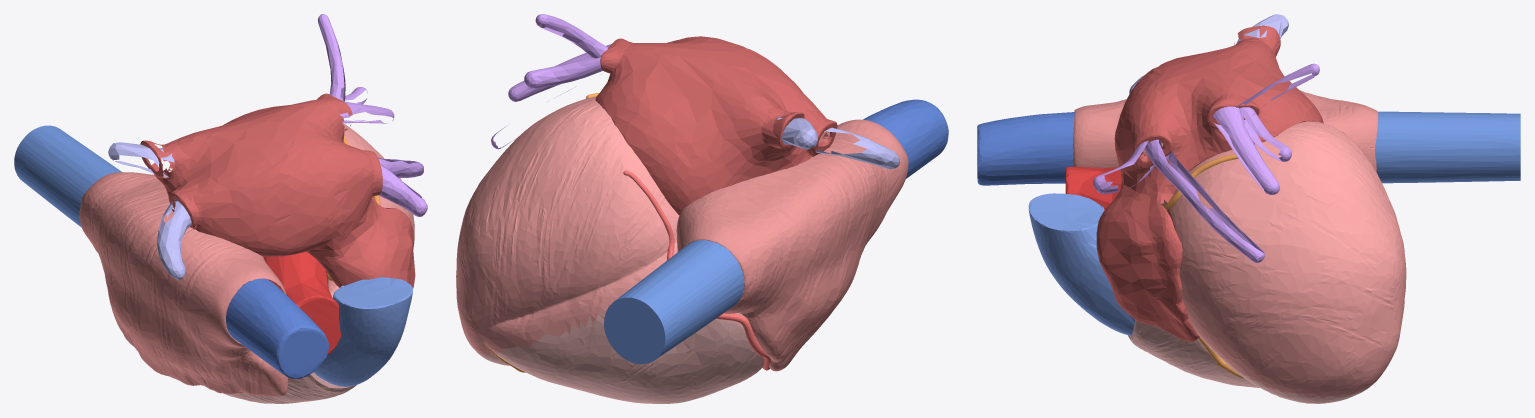
Rendered from heart.glb.
3 views of the same model, side by side, from view 1: azimuth 30°, elevation 25°; view 2: azimuth 150°, elevation 25°; view 3: azimuth 270°, elevation 25° (orthographic). The views are drawn at different scales.
Parts seen in each view (by area): view 1: Left_Atrium, Right_Atrium, Pulmonary_Trunk, Superior_Vena_Cava, Inferior_Vena_Cava, Left_Pulmonary_Veins, Ascending_Aorta, Right_Pulmonary_Veins, Right_Ventricle, Left_Ventricle; view 2: Left_Ventricle, Right_Atrium, Left_Atrium, Right_Ventricle, Inferior_Vena_Cava, Superior_Vena_Cava, Left_Pulmonary_Veins, Right_Pulmonary_Veins, Right_Coronary_Artery; view 3: Left_Ventricle, Left_Atrium, Inferior_Vena_Cava, Left_Pulmonary_Veins, Pulmonary_Trunk, Superior_Vena_Cava, Right_Atrium, Right_Ventricle, Ascending_Aorta, Left_Coronary_System, Right_Pulmonary_Veins.
Boxes of the visible parts, x1,y1,x2,y2 form: Left_Atrium: (140, 93, 415, 288); Right_Atrium: (79, 172, 288, 396); Pulmonary_Trunk: (313, 277, 412, 386); Superior_Vena_Cava: (226, 278, 328, 379); Inferior_Vena_Cava: (14, 125, 122, 227); Left_Pulmonary_Veins: (318, 14, 427, 216); Ascending_Aorta: (263, 251, 341, 354); Right_Pulmonary_Veins: (108, 142, 191, 279); Right_Ventricle: (222, 290, 356, 403); Left_Ventricle: (328, 123, 414, 293); Left_Ventricle: (456, 96, 679, 355); Right_Atrium: (676, 119, 908, 371); Left_Atrium: (595, 36, 837, 215); Right_Ventricle: (478, 313, 764, 403); Inferior_Vena_Cava: (604, 239, 744, 364); Superior_Vena_Cava: (863, 99, 948, 178); Left_Pulmonary_Veins: (491, 14, 611, 149); Right_Pulmonary_Veins: (777, 116, 899, 169); Right_Coronary_Artery: (623, 170, 770, 370); Left_Ventricle: (1161, 121, 1406, 398); Left_Atrium: (1096, 25, 1323, 341); Inferior_Vena_Cava: (1375, 111, 1520, 183); Left_Pulmonary_Veins: (1093, 63, 1319, 262); Pulmonary_Trunk: (1028, 193, 1135, 335); Superior_Vena_Cava: (977, 112, 1074, 185); Right_Atrium: (1073, 90, 1378, 171); Right_Ventricle: (1128, 320, 1370, 403); Ascending_Aorta: (1065, 166, 1121, 209); Left_Coronary_System: (1164, 154, 1244, 378); Right_Pulmonary_Veins: (1129, 14, 1288, 93).
Size of the model in its own units: 119 by 123 by 172.
